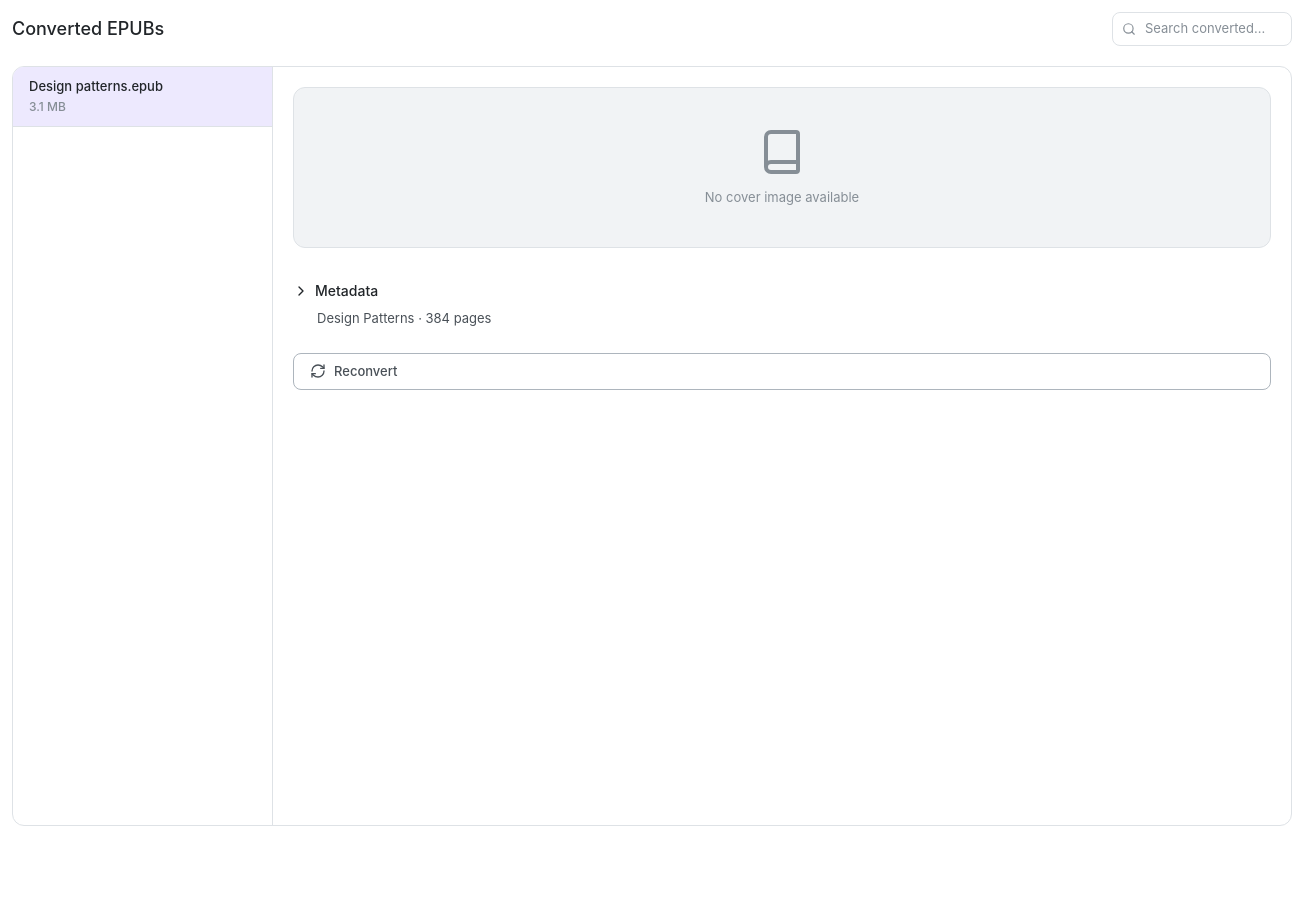
Test: ConvertedScreen › shows settings override count when overrides exist
Click the button "Metadata". click: (347, 290)
box: [293, 272, 1271, 309]
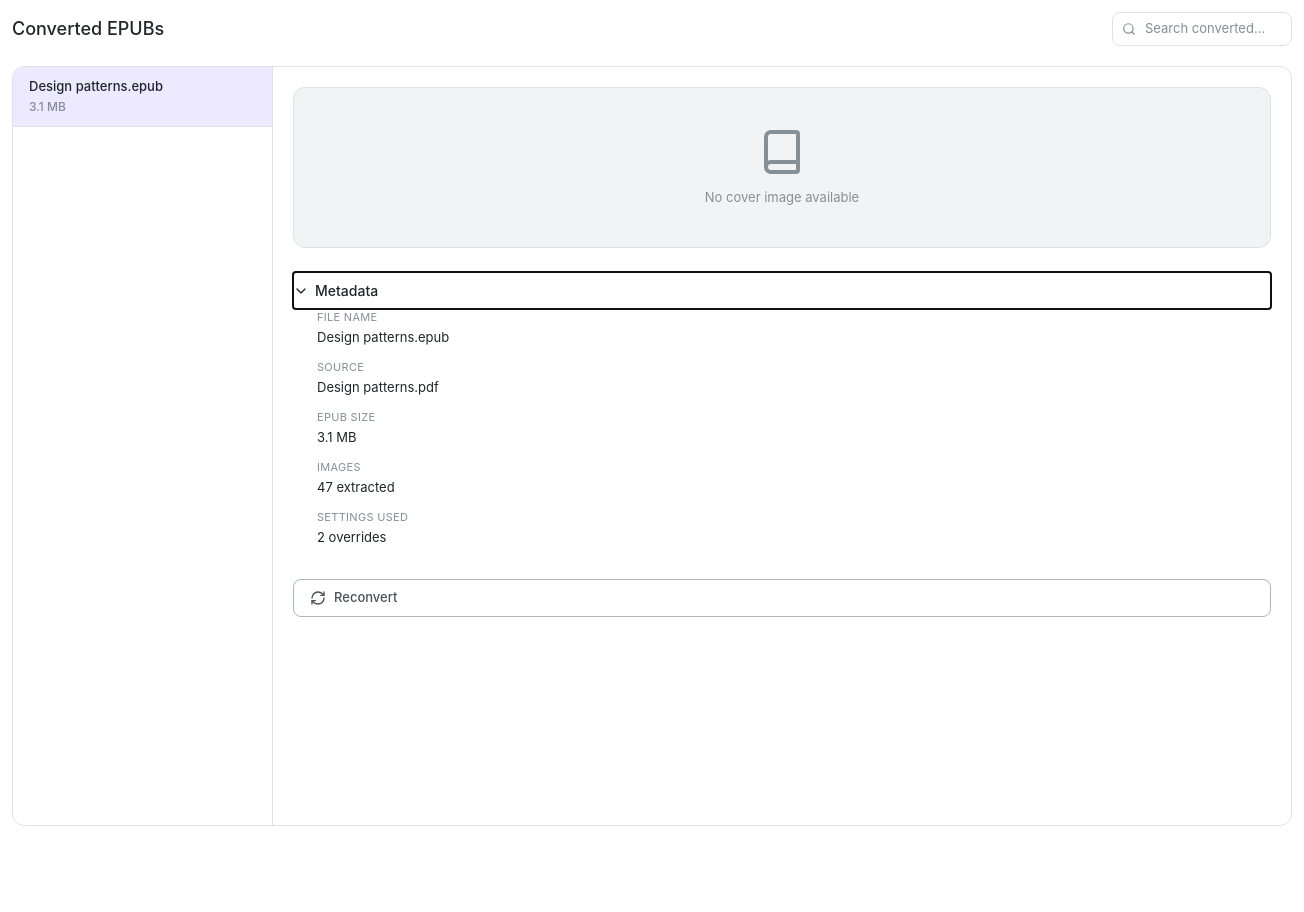
Now the text "2 overrides" is shown, box [317, 528, 386, 544]
